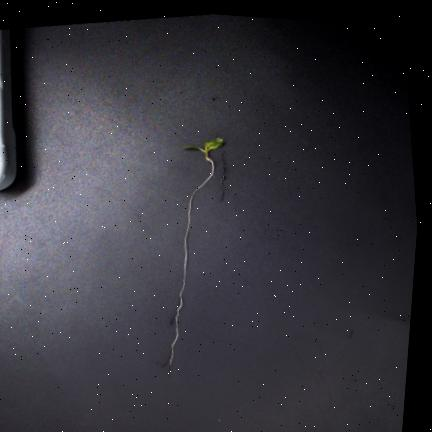leaf1: (183, 146, 205, 151)
leaf2: (205, 138, 223, 151)
root: (170, 173, 213, 365)
stem: (205, 151, 214, 171)
